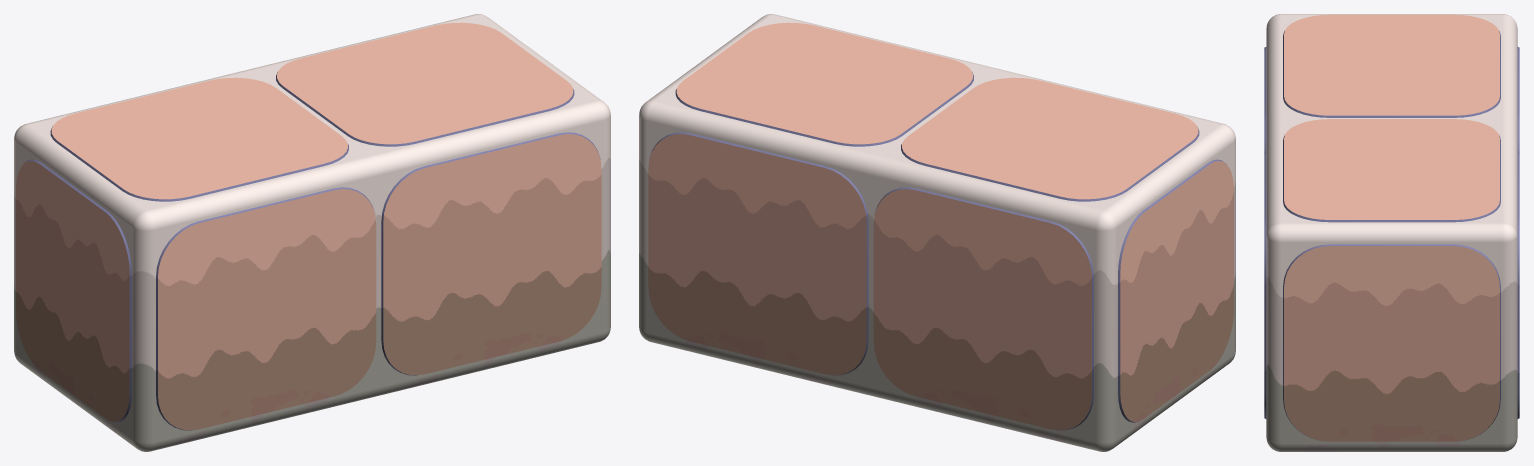
The model's file is R4B_Beam2.glb.
3 views of the same model, side by side, from view 1: azimuth 30°, elevation 25°; view 2: azimuth 150°, elevation 25°; view 3: azimuth 270°, elevation 25° (orthographic). The views are drawn at different scales.
Parts seen in each view (by area): view 1: R4B_Beam2; view 2: R4B_Beam2; view 3: R4B_Beam2.
Part boxes in pixels (x1,y1,x2,y2): R4B_Beam2: (14, 14, 610, 451); R4B_Beam2: (639, 14, 1235, 451); R4B_Beam2: (1264, 14, 1519, 451).
Bounding box in the file's own units: 1.07 × 0.52 × 0.52.
Materials: 3 (3 with a texture image).
